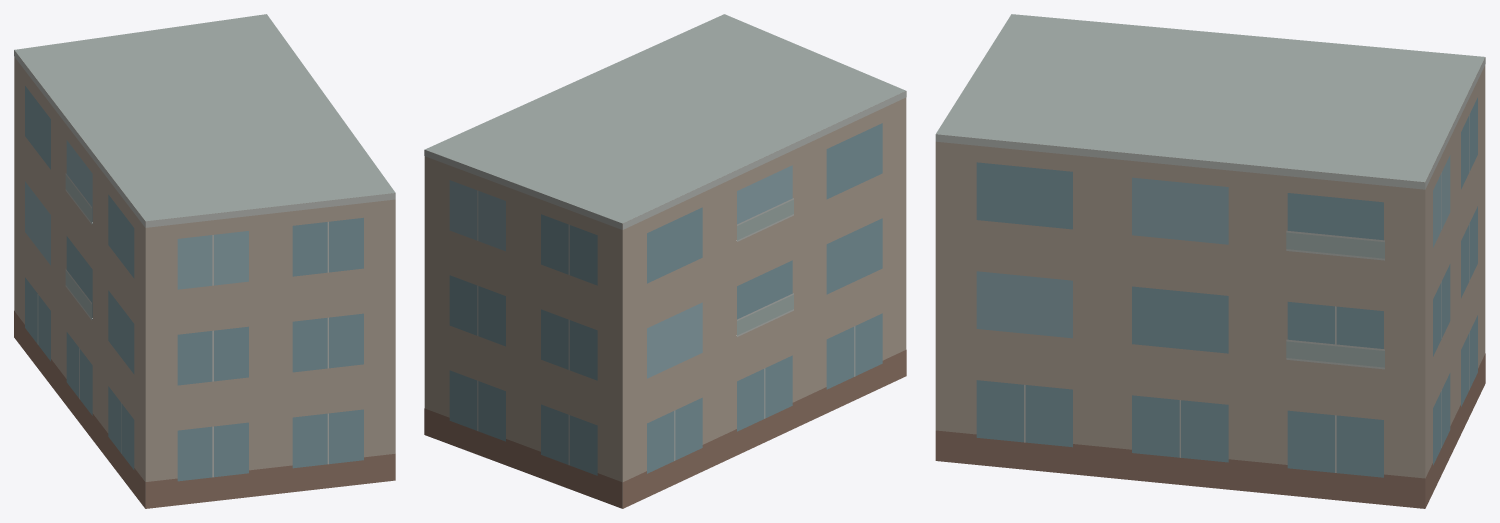
File: survey-upis-32702455.glb
3 views of the same model, side by side, from view 1: azimuth 30°, elevation 25°; view 2: azimuth 150°, elevation 25°; view 3: azimuth 270°, elevation 25° (orthographic). The views are drawn at different scales.
Parts seen in each view (by area): view 1: survey-upis-32702455.tmp; view 2: survey-upis-32702455.tmp; view 3: survey-upis-32702455.tmp.
Part boxes in pixels (x1,y1,x2,y2): survey-upis-32702455.tmp: (14, 14, 395, 508); survey-upis-32702455.tmp: (424, 14, 906, 508); survey-upis-32702455.tmp: (935, 14, 1485, 508).
Size of the model in its own units: 11.83 by 10.7 by 16.34.
